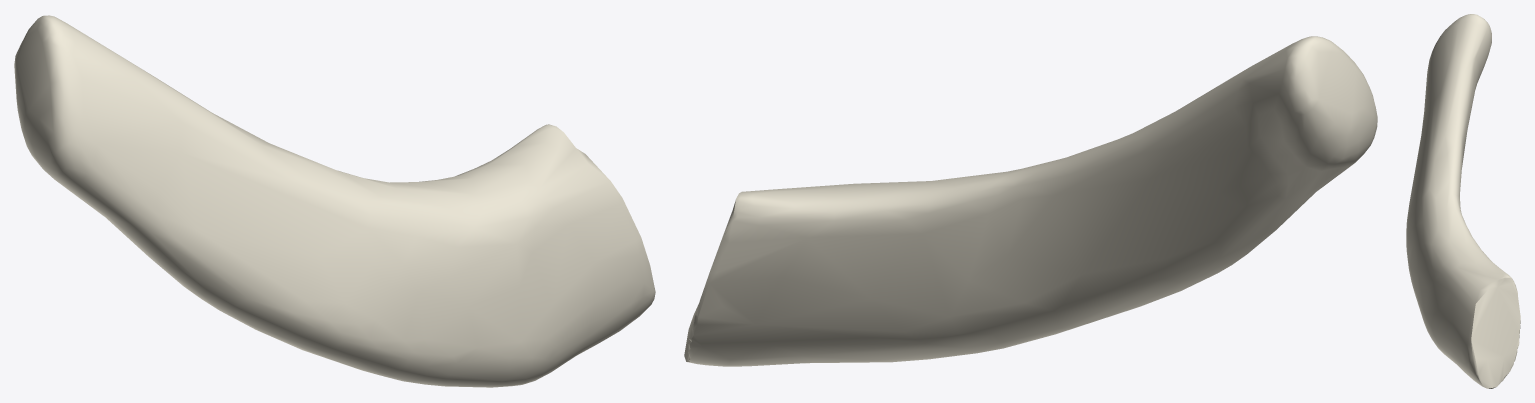
File: fma8112_fj3251.glb
3 views of the same model, side by side, from view 1: azimuth 30°, elevation 25°; view 2: azimuth 150°, elevation 25°; view 3: azimuth 270°, elevation 25° (orthographic). The views are drawn at different scales.
Parts seen in each view (by area): view 1: FMA8112_FJ3251; view 2: FMA8112_FJ3251; view 3: FMA8112_FJ3251.
Part boxes in pixels (x1,y1,x2,y2): FMA8112_FJ3251: [14, 15, 655, 387]; FMA8112_FJ3251: [684, 36, 1377, 366]; FMA8112_FJ3251: [1406, 14, 1520, 388].
Size of the model in its own units: 0.0643 by 0.0436 by 0.0197.
